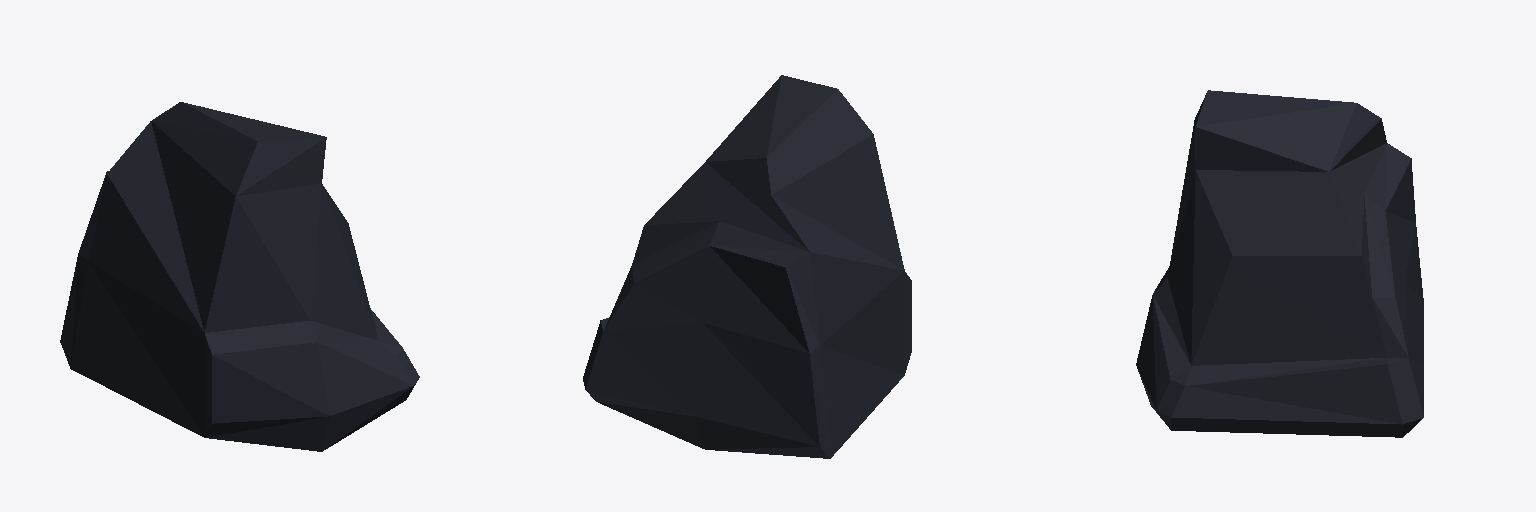
File: Rock_2.obj
3 views of the same model, side by side, from view 1: azimuth 30°, elevation 25°; view 2: azimuth 150°, elevation 25°; view 3: azimuth 270°, elevation 25° (orthographic).
Visible parts, largest first — view 1: Rock_2_Cube.016; view 2: Rock_2_Cube.016; view 3: Rock_2_Cube.016.
Boxes of the visible parts, x1=… form: Rock_2_Cube.016: x1=60, y1=102, x2=419, y2=451; Rock_2_Cube.016: x1=583, y1=75, x2=911, y2=458; Rock_2_Cube.016: x1=1136, y1=90, x2=1423, y2=437.
Bounding box in the file's own units: 0.5614 × 0.6456 × 0.565.